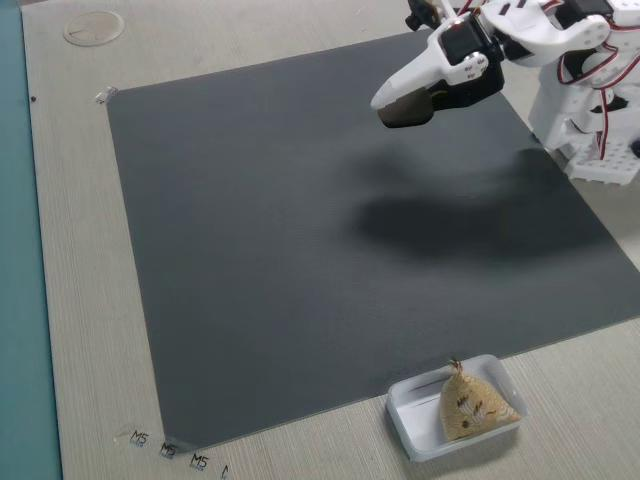objects: (349, 26, 506, 136)
